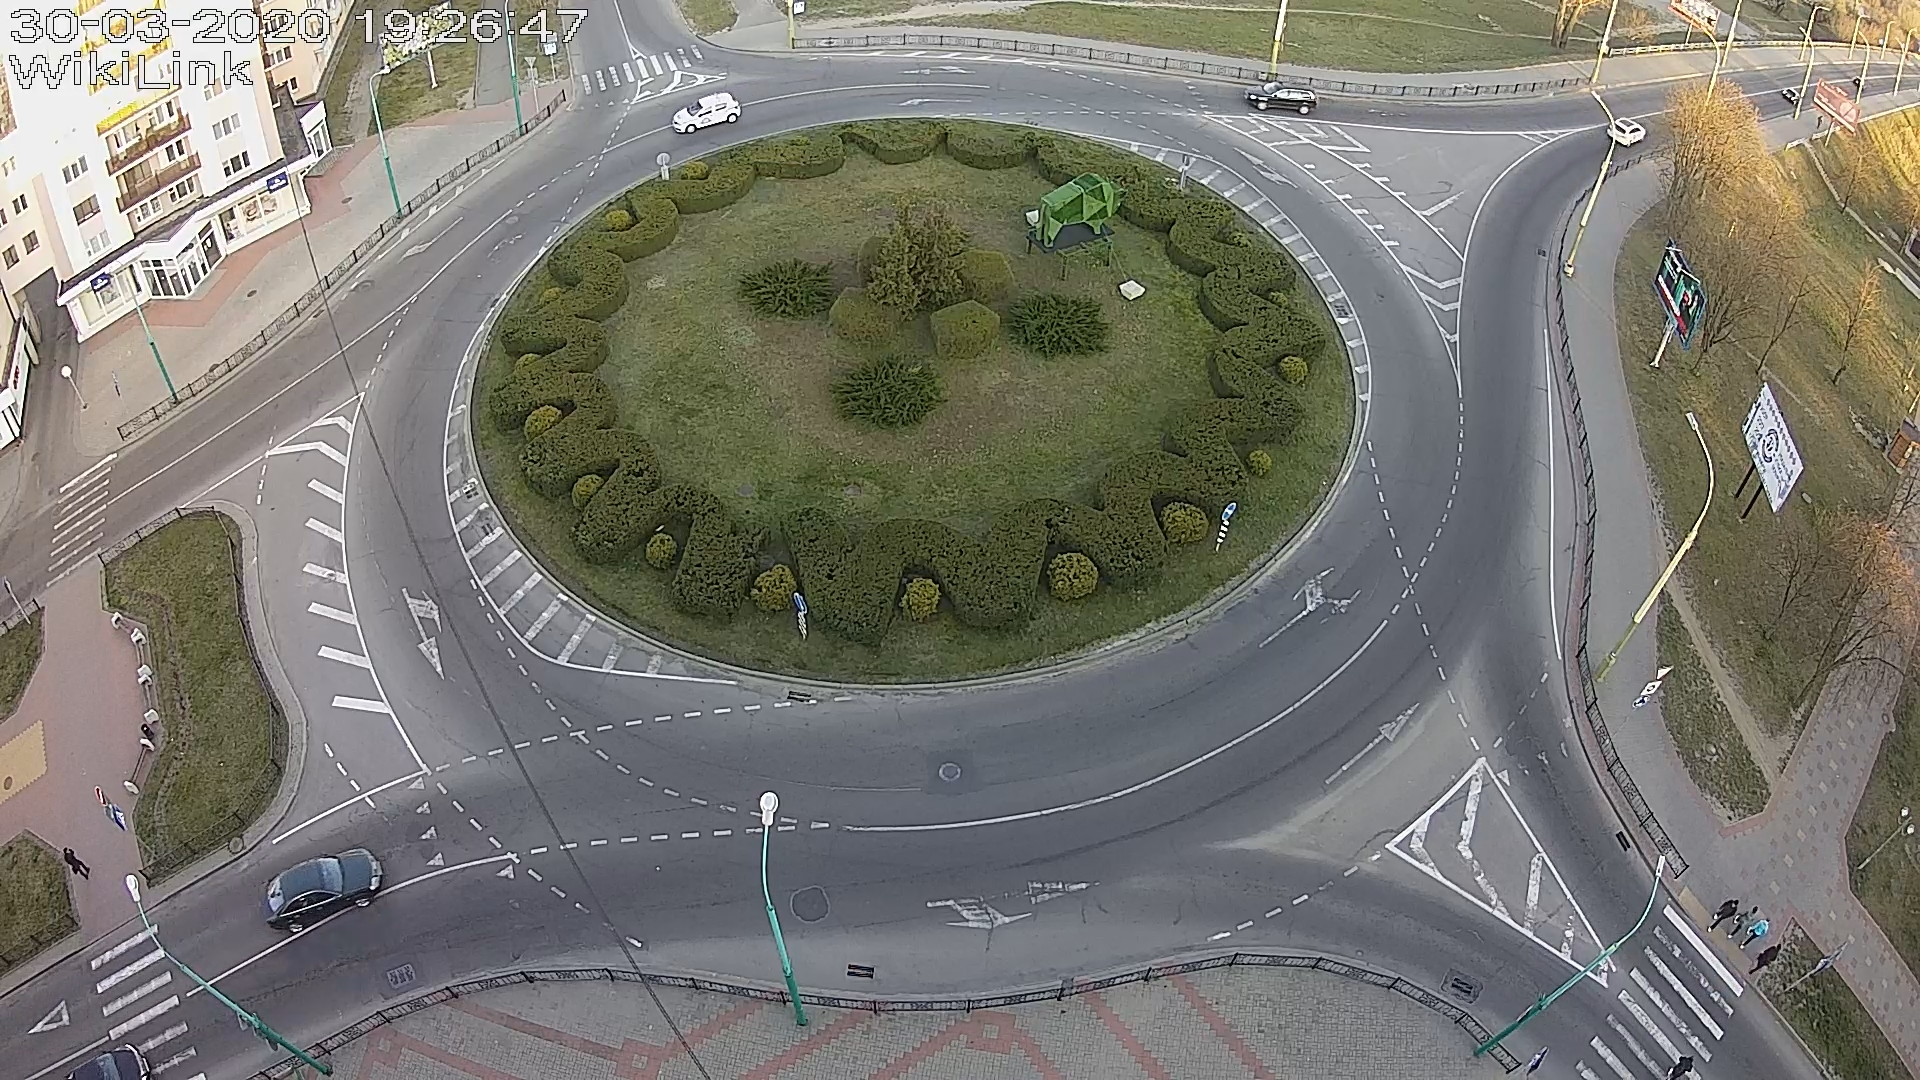car: (258, 847, 385, 934), (671, 91, 742, 135), (1244, 80, 1317, 115), (1606, 117, 1647, 146)
